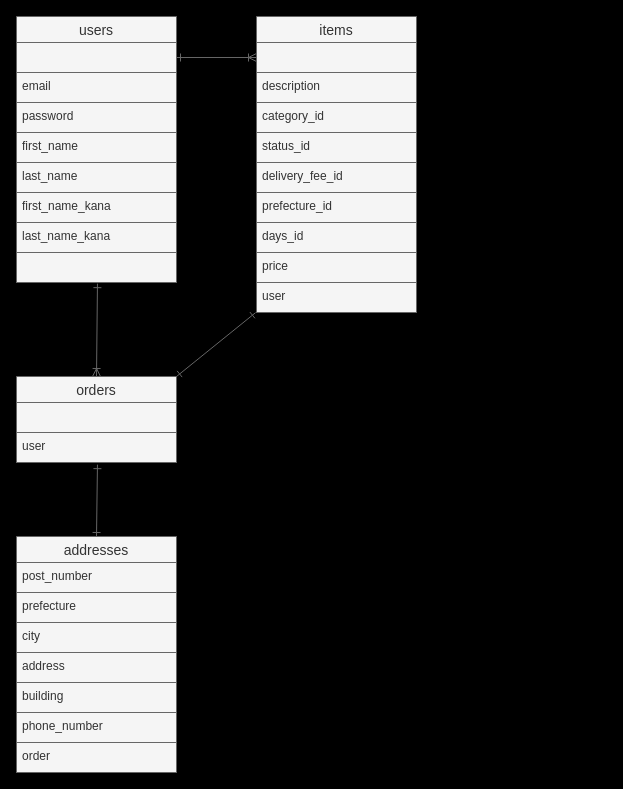
Image size: 623x789. Some labels were removed from this diagram. Here are the shapes that lost their labels. From the top down, the centre of each, then its label:
the point at 96,57: nickname
the point at 336,57: name
the point at 96,267: date_of_birth
the point at 96,417: item
